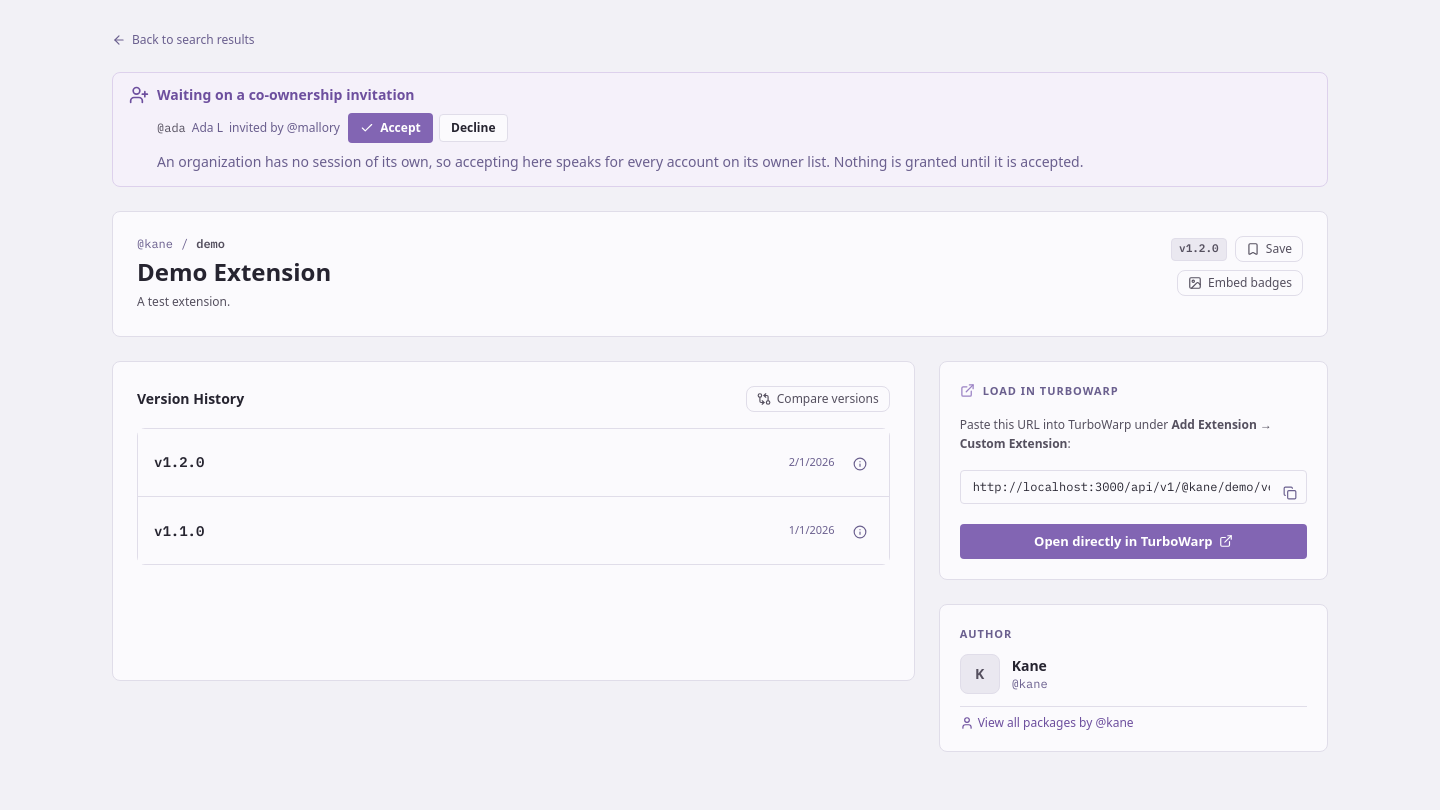
ExtensionDetailPage › takes the account back off the list when it declines
What coordinates should you click on to do the following:
click the button "Decline"
I would click on:
 (473, 128)
Its box is [439, 114, 508, 142].
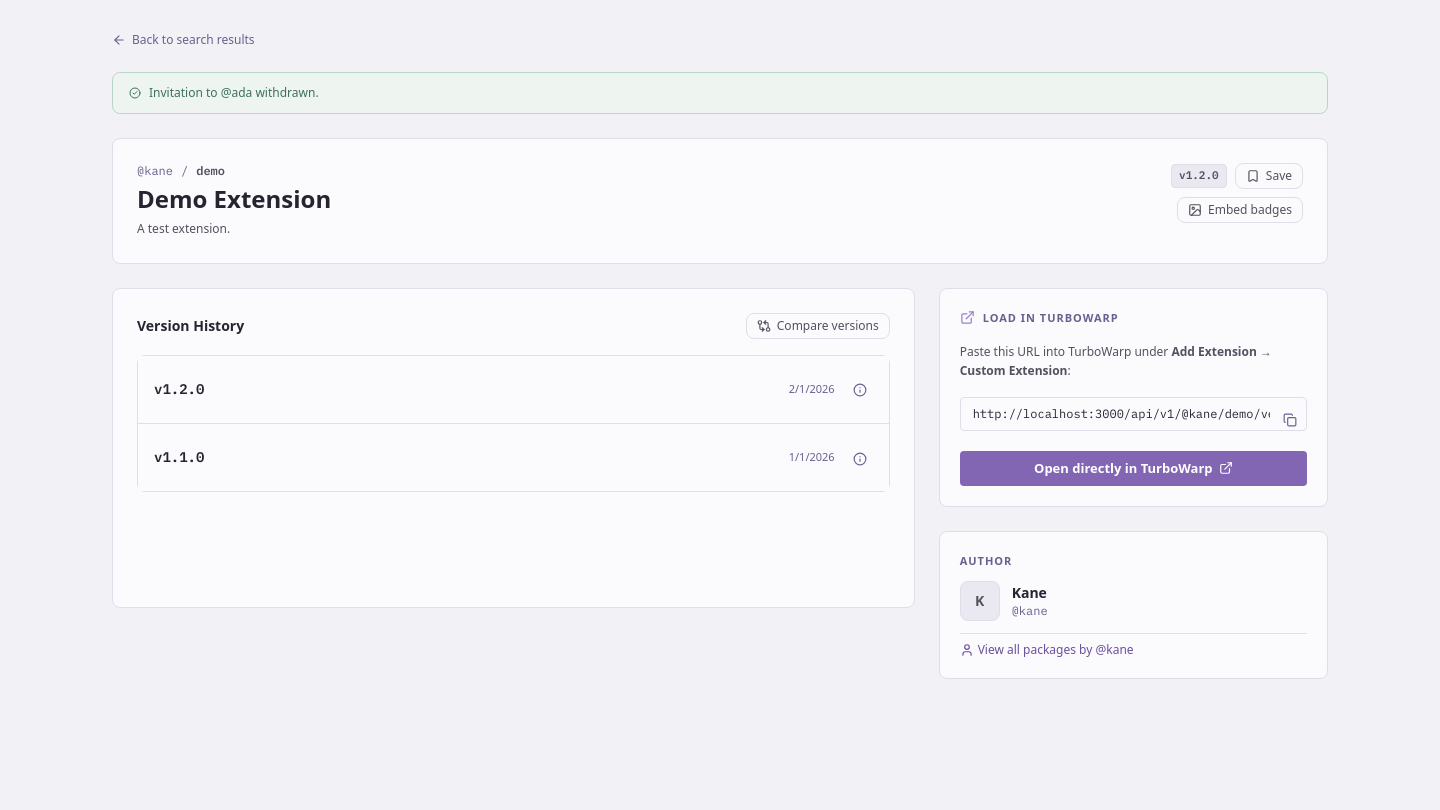
Check: the list item with test id "pending-owner-invite" is gone
